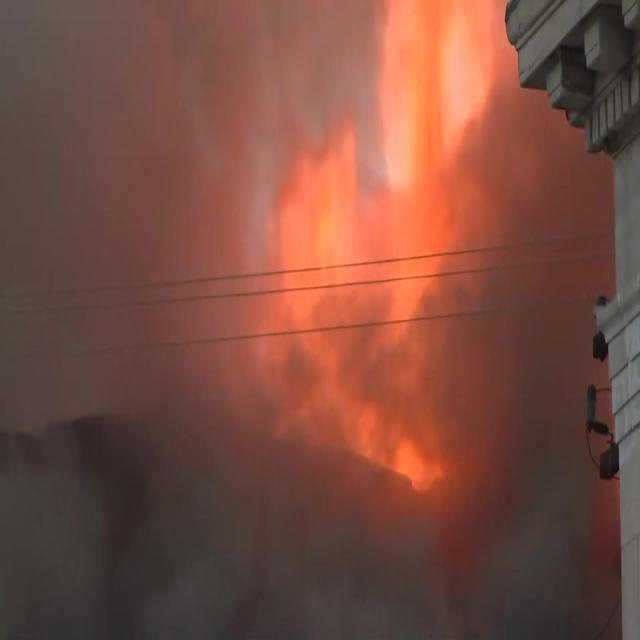Fire: (275, 0, 505, 476)
Smoke: (2, 4, 266, 640), (271, 484, 579, 640), (515, 74, 613, 452)
